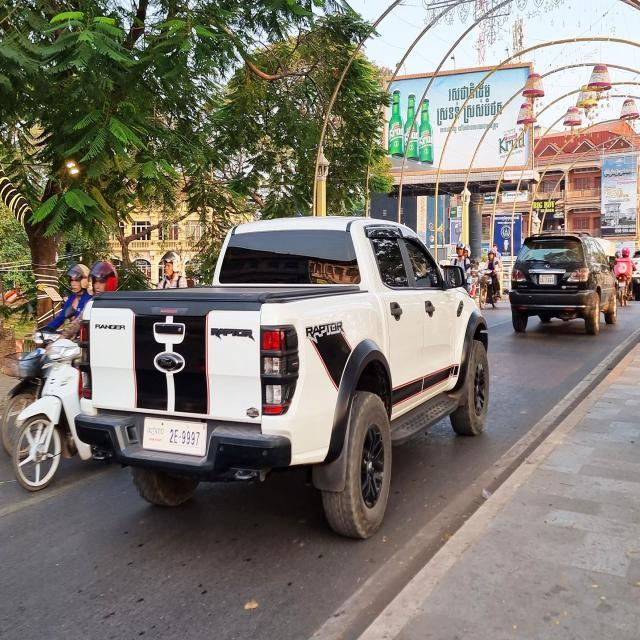Siem_Reap: (147, 426, 164, 438)
